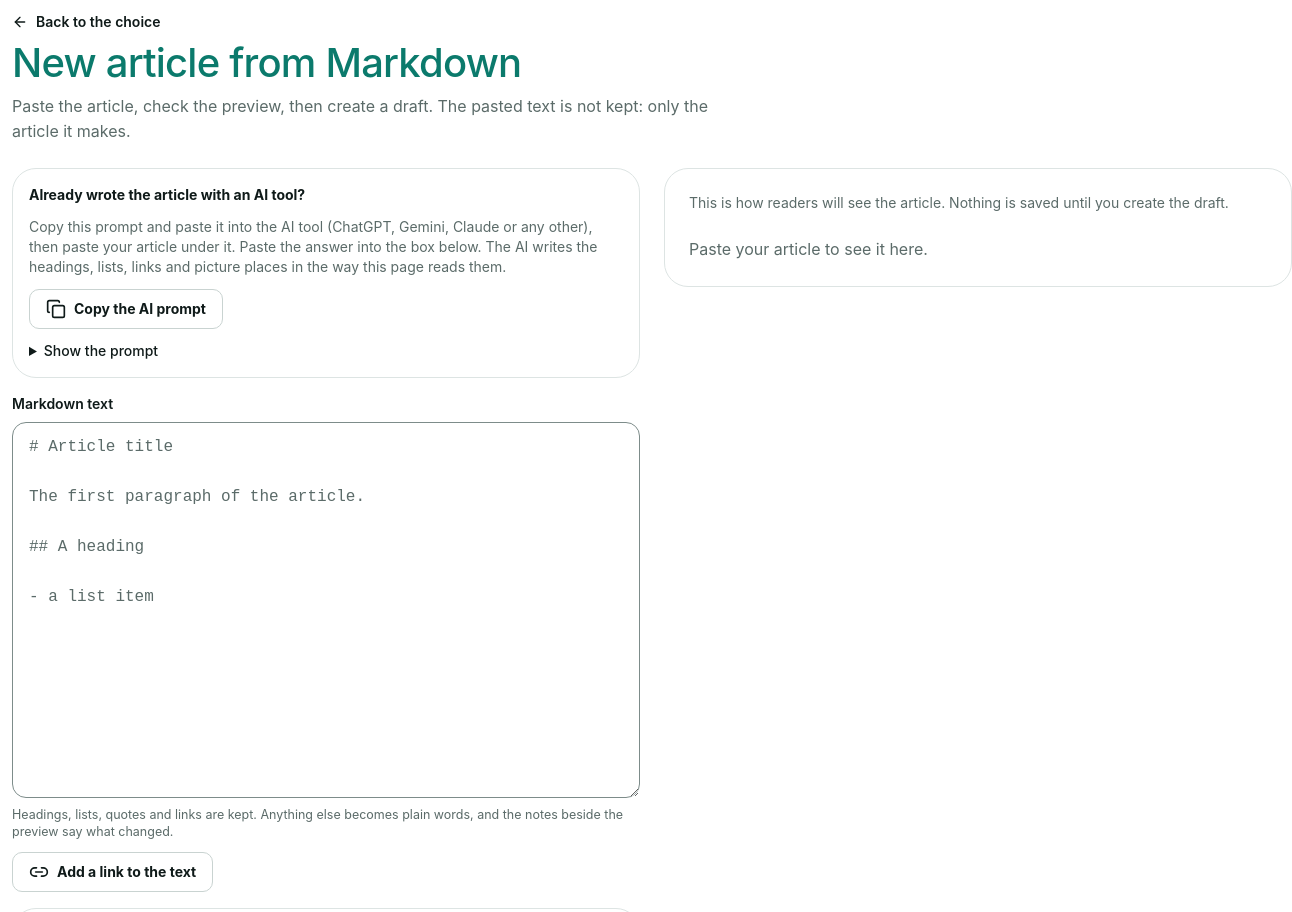
Test case: BlogMarkdownFlow: the paste screen (ADR-172) › copies the AI prompt and shows it on request (ADR-173)
The width and height of the screenshot is (1292, 912).
What coordinates should you click on to do the following:
click the button "Copy the AI prompt"
I would click on:
 (126, 309)
Its box is [29,289,223,329].
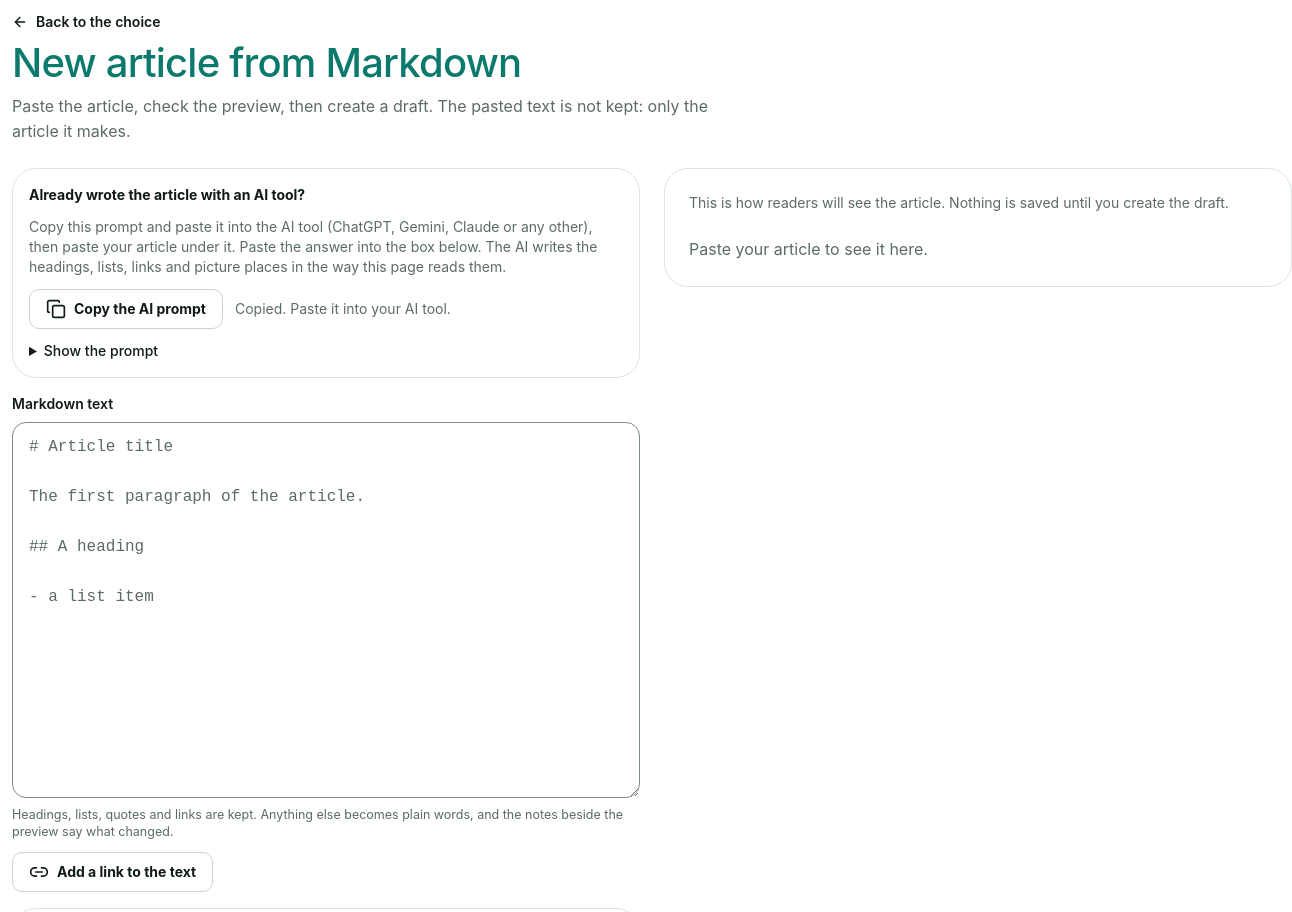
Expected: the text "Copied. Paste it into your AI tool." is shown, [235,299,451,319]
